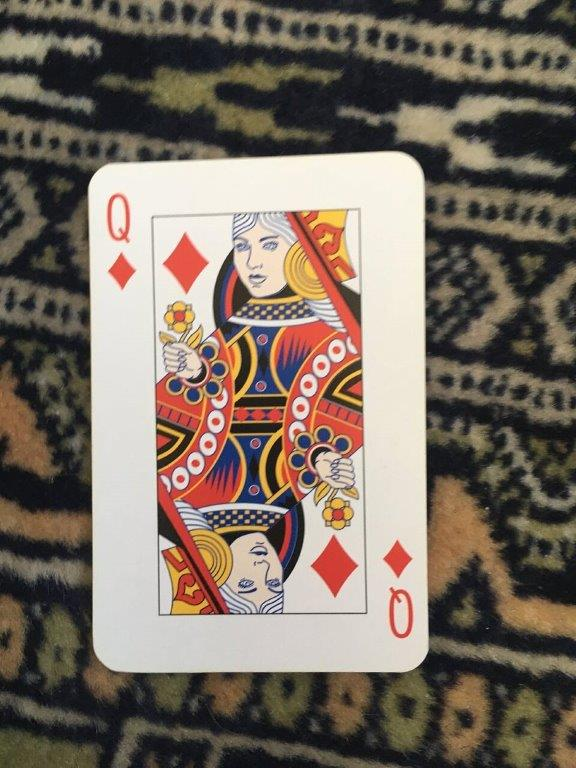QD: (83, 148, 433, 676)
